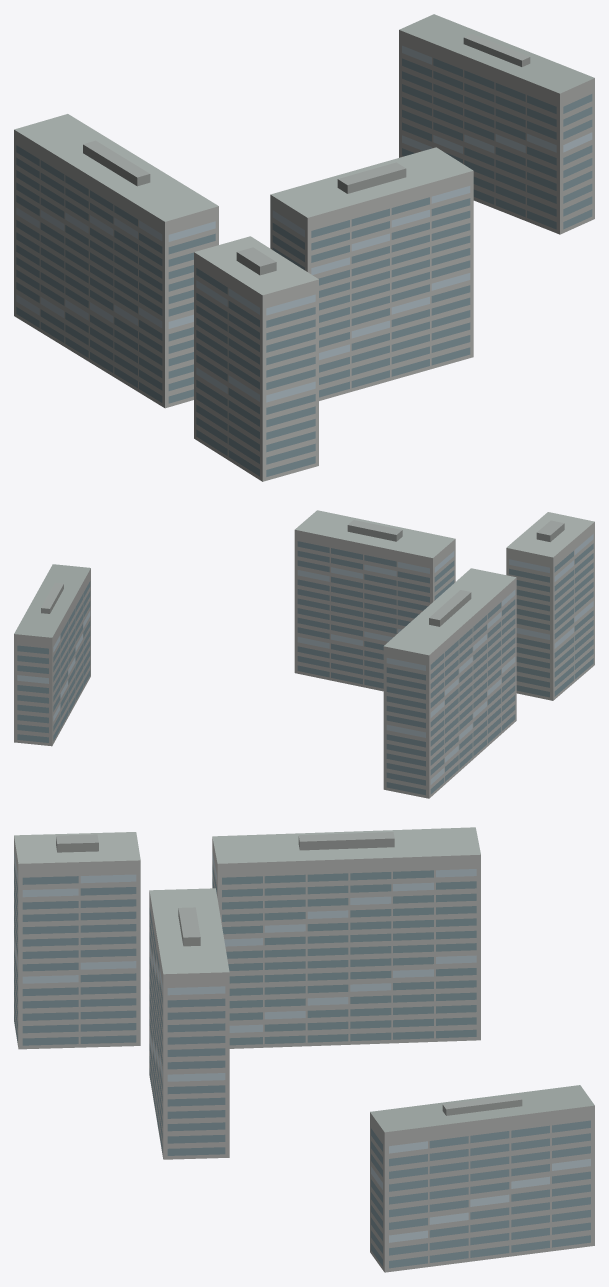
File: apt-a13608601.glb
3 views of the same model, one above another, from view 1: azimuth 30°, elevation 25°; view 2: azimuth 150°, elevation 25°; view 3: azimuth 270°, elevation 25° (orthographic). The views are drawn at different scales.
Visible parts, largest first — view 1: apt-a13608601; view 2: apt-a13608601; view 3: apt-a13608601.
Part boxes in pixels (left/top/right/bottom): apt-a13608601: left=14, top=14, right=594, bottom=481; apt-a13608601: left=14, top=510, right=594, bottom=798; apt-a13608601: left=14, top=827, right=594, bottom=1272.
Size of the model in its own units: 118 by 41 by 111.
